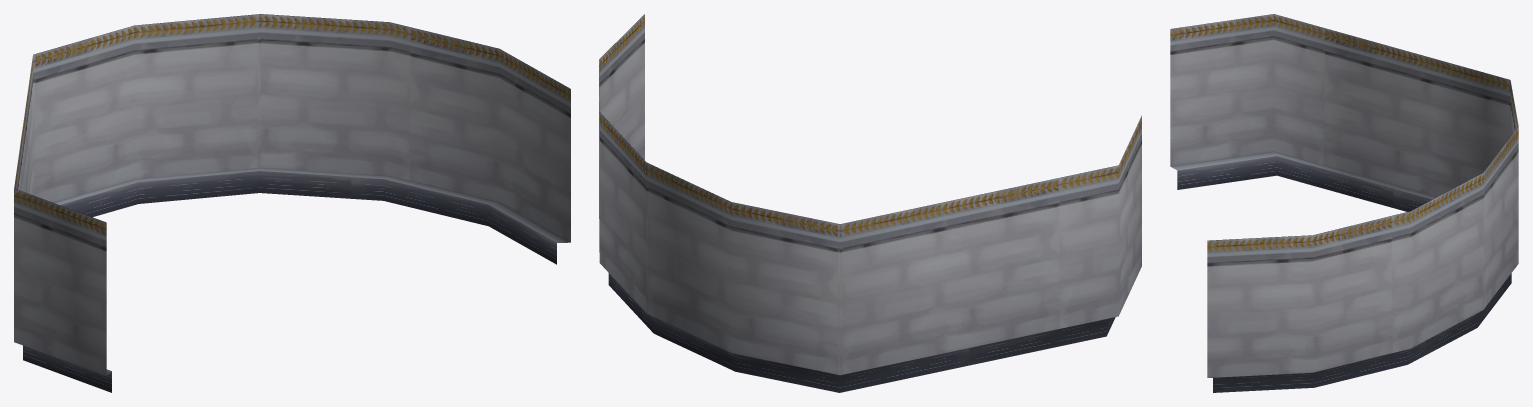
Rendered from Scorpio_std_Walls.fbx.
The picture shows the model from 3 angles, left to right: view 1: azimuth 30°, elevation 25°; view 2: azimuth 150°, elevation 25°; view 3: azimuth 270°, elevation 25°; orthographic projection. The views are drawn at different scales.
Parts seen in each view (by area): view 1: polySurface6; view 2: polySurface6; view 3: polySurface6.
Part boxes in pixels (bbox=[...]): polySurface6: bbox=[14, 14, 570, 392]; polySurface6: bbox=[599, 14, 1141, 392]; polySurface6: bbox=[1170, 14, 1518, 392].
Bounding box in the file's own units: 24.55 × 7.93 × 15.95.
